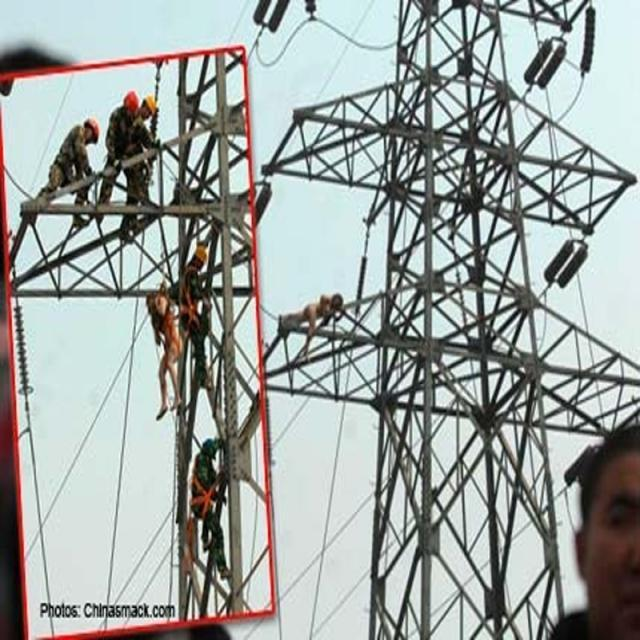non-critical vegetation: (268, 4, 622, 626)
